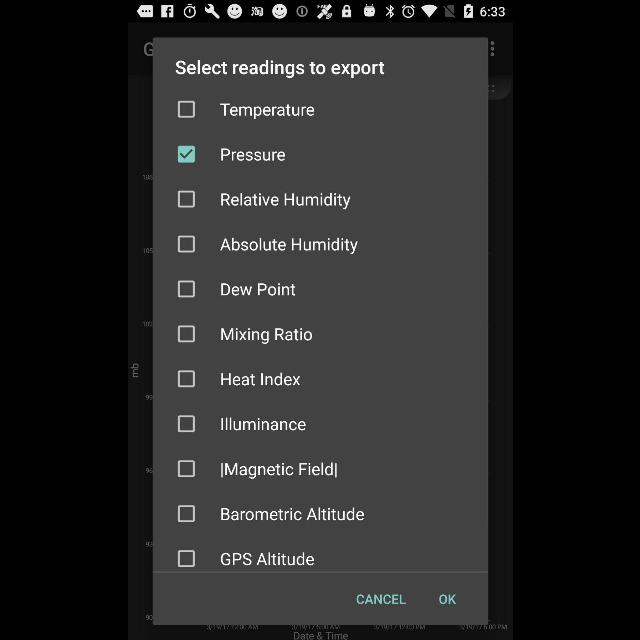checkbox: (176, 100, 194, 118), (176, 190, 194, 208), (176, 280, 194, 298), (176, 460, 194, 478), (176, 550, 194, 568), (176, 235, 194, 252), (178, 370, 195, 388), (176, 146, 194, 162), (176, 416, 194, 432), (176, 506, 194, 522), (178, 326, 195, 342)
panel: (152, 38, 488, 624)
text: (174, 61, 383, 79), (220, 238, 356, 255), (220, 193, 350, 209), (220, 462, 336, 478), (221, 508, 363, 520), (220, 103, 314, 119), (220, 328, 312, 344), (220, 552, 314, 566), (220, 372, 300, 386), (221, 418, 305, 430), (221, 284, 295, 296), (221, 149, 285, 161), (356, 594, 404, 604), (439, 594, 455, 604)
uppertaskbar: (128, 1, 512, 23)
